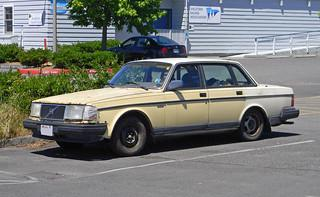Front-Windscreen-Damage: (107, 60, 183, 89)
